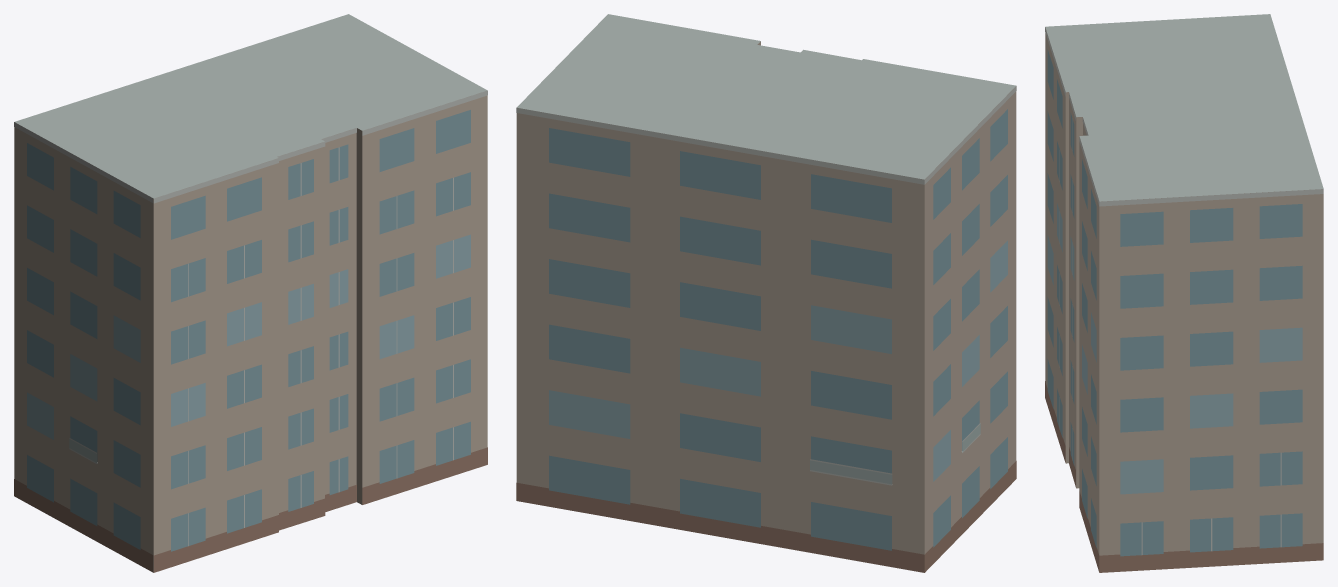
The model's file is survey-upis-32858028.glb.
3 views of the same model, side by side, from view 1: azimuth 30°, elevation 25°; view 2: azimuth 150°, elevation 25°; view 3: azimuth 270°, elevation 25° (orthographic). The views are drawn at different scales.
Visible parts, largest first — view 1: survey-upis-32858028.tmp; view 2: survey-upis-32858028.tmp; view 3: survey-upis-32858028.tmp.
Part boxes in pixels (left/top/right/bottom): survey-upis-32858028.tmp: left=14, top=14, right=487, bottom=572; survey-upis-32858028.tmp: left=516, top=14, right=1016, bottom=572; survey-upis-32858028.tmp: left=1045, top=14, right=1323, bottom=572.
Size of the model in its own units: 19.83 by 18.3 by 12.46.
